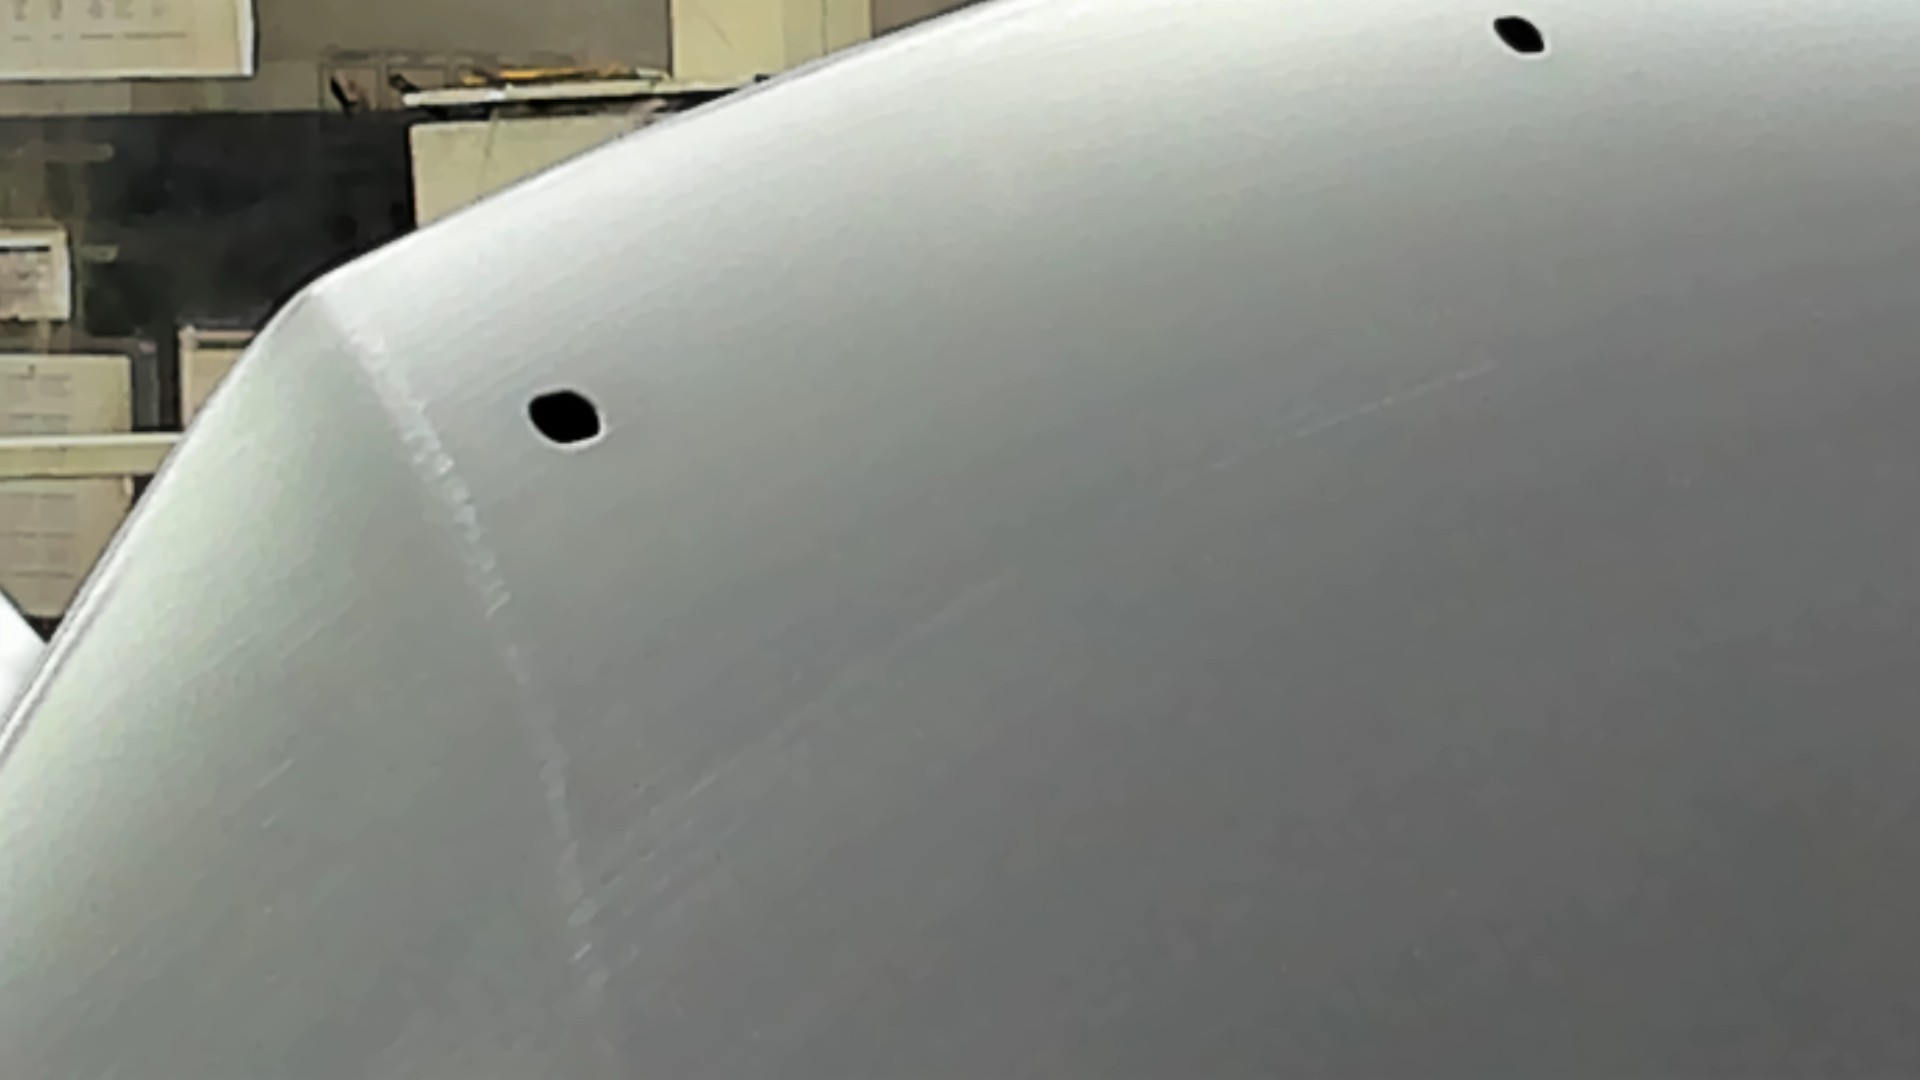amorfo: (524, 382, 609, 450), (1486, 11, 1553, 63)
capo: (716, 156, 1920, 1080)
